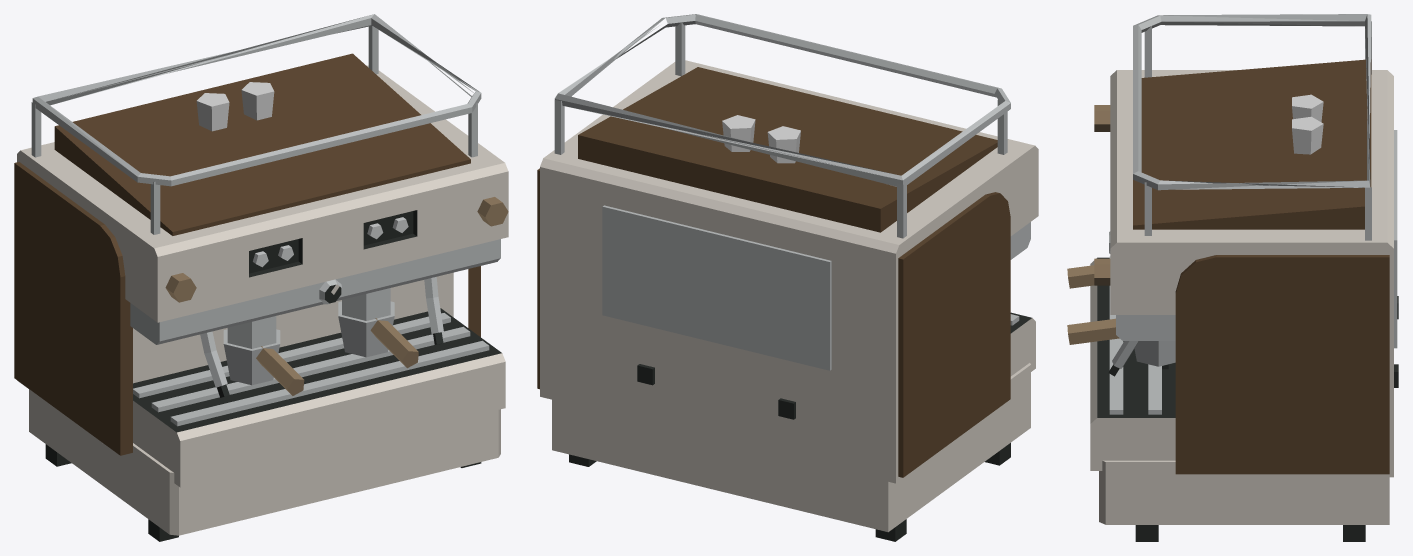
File: espresso-machine-a2db84.glb
The picture shows the model from 3 angles, left to right: view 1: azimuth 30°, elevation 25°; view 2: azimuth 150°, elevation 25°; view 3: azimuth 270°, elevation 25°; orthographic projection.
Parts seen in each view (by area): view 1: espresso-machine, portafilter-b, portafilter-a, steam-wand-l, steam-wand-r; view 2: espresso-machine; view 3: espresso-machine, portafilter-b, portafilter-a, steam-wand-r.
Part boxes in pixels (x1,y1,x2,y2): espresso-machine: (14, 14, 508, 541); portafilter-b: (338, 301, 418, 368); portafilter-a: (223, 329, 304, 395); steam-wand-l: (200, 331, 229, 397); steam-wand-r: (424, 277, 443, 344); espresso-machine: (537, 14, 1038, 541); espresso-machine: (1090, 14, 1398, 541); portafilter-b: (1067, 318, 1175, 369); portafilter-a: (1067, 265, 1094, 288); steam-wand-r: (1108, 341, 1138, 376).
Bounding box in the file's own units: 0.74 × 0.7121 × 0.5836.
